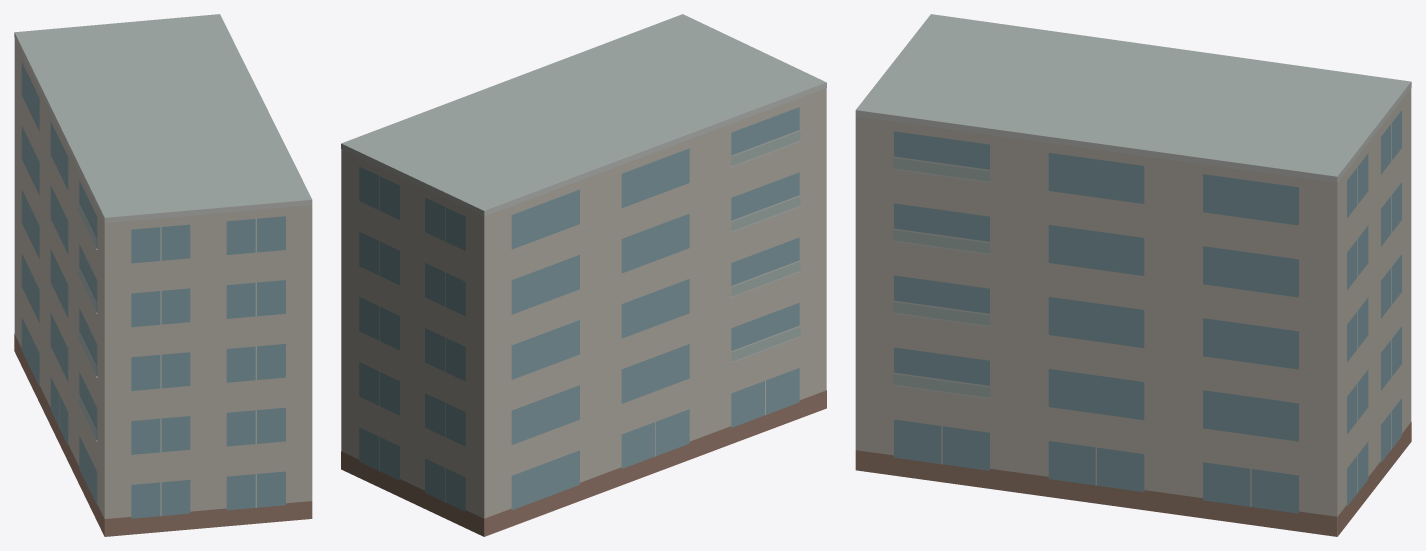
The model's file is survey-upis-32873962.glb.
The picture shows the model from 3 angles, left to right: view 1: azimuth 30°, elevation 25°; view 2: azimuth 150°, elevation 25°; view 3: azimuth 270°, elevation 25°; orthographic projection. The views are drawn at different scales.
Visible parts, largest first — view 1: survey-upis-32873962.tmp; view 2: survey-upis-32873962.tmp; view 3: survey-upis-32873962.tmp.
Boxes of the visible parts, box(x1,y1,x2,y2) form: survey-upis-32873962.tmp: box(14, 14, 312, 536); survey-upis-32873962.tmp: box(341, 14, 826, 536); survey-upis-32873962.tmp: box(855, 14, 1411, 536).
Size of the model in its own units: 13.96 by 14.4 by 20.15.
